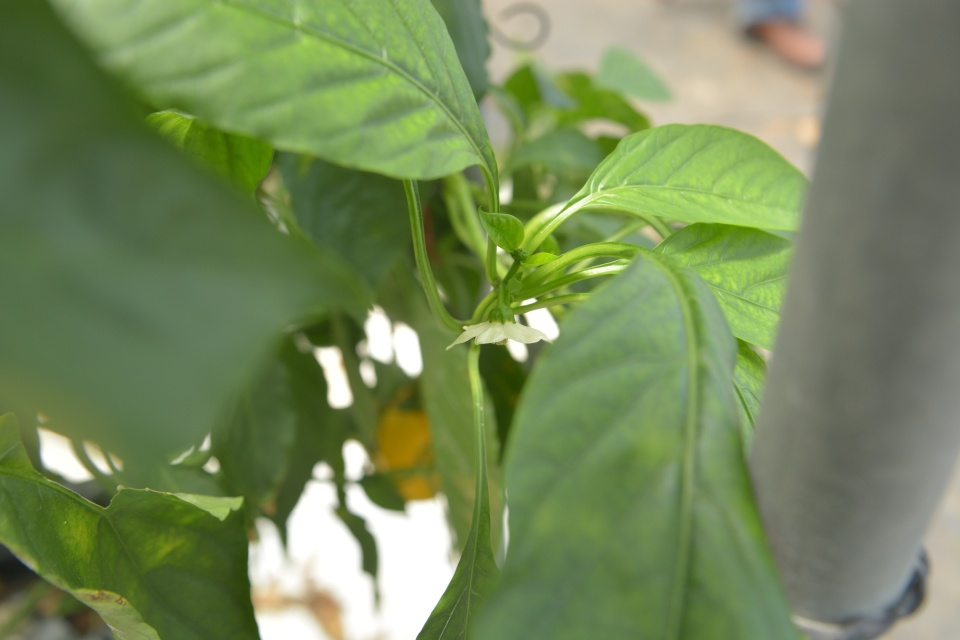flower: (442, 317, 557, 353)
fruit: (368, 377, 448, 503)
